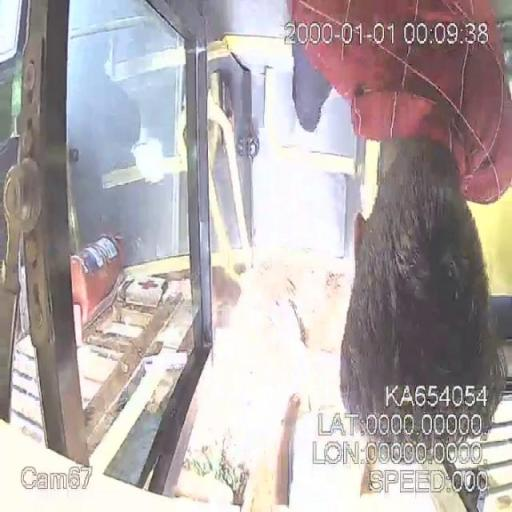persona: (283, 2, 510, 510)
